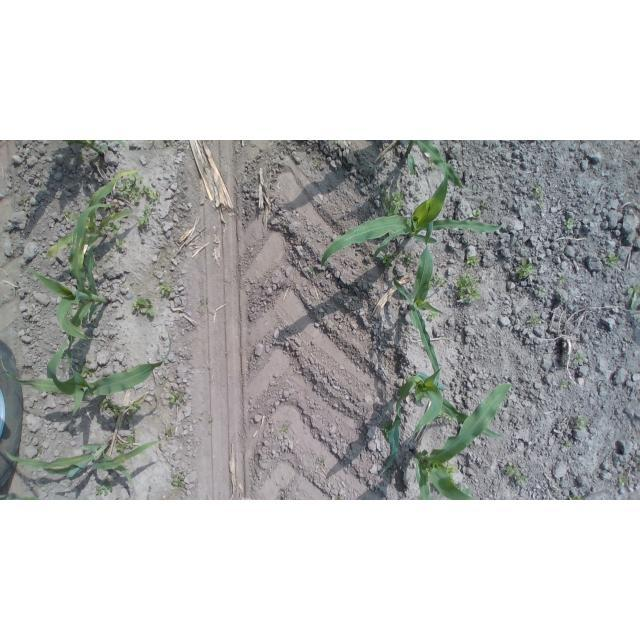Maize: (316, 175, 500, 270), (378, 347, 505, 480), (1, 338, 180, 424), (399, 381, 517, 500), (33, 203, 119, 352), (7, 430, 174, 494), (41, 167, 148, 265), (385, 248, 450, 389), (379, 140, 467, 194), (68, 140, 120, 158)
Weeds: (114, 175, 161, 206), (452, 275, 480, 304), (378, 188, 404, 219), (499, 464, 529, 489), (378, 250, 412, 270), (121, 399, 147, 425), (94, 214, 123, 235), (128, 296, 154, 319), (135, 205, 154, 236), (93, 476, 120, 497), (512, 258, 534, 278), (98, 399, 121, 418), (470, 201, 493, 220), (532, 184, 547, 213), (626, 283, 640, 312), (378, 418, 395, 441), (570, 413, 590, 432), (599, 248, 617, 269), (167, 390, 186, 409), (171, 470, 188, 491), (570, 346, 586, 367), (111, 237, 130, 254), (427, 274, 446, 291), (462, 255, 482, 271), (78, 361, 95, 379), (157, 280, 174, 298), (436, 409, 456, 424), (524, 313, 545, 327), (616, 473, 632, 490), (532, 283, 548, 300), (425, 307, 443, 322), (445, 463, 460, 481), (557, 434, 573, 450), (563, 218, 580, 233), (125, 433, 138, 452), (276, 424, 291, 437), (564, 492, 587, 500), (559, 377, 572, 391), (115, 442, 126, 455), (198, 298, 208, 311), (61, 209, 72, 220), (315, 456, 325, 468), (308, 265, 320, 275), (556, 274, 565, 287), (164, 426, 172, 439)
